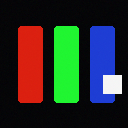1 square: (103, 75, 121, 93)
